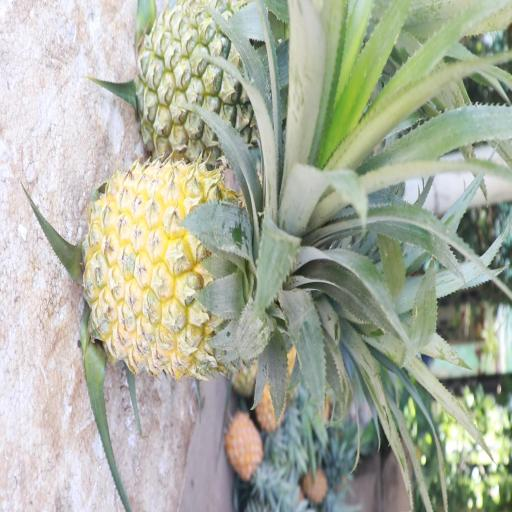------------------------------: (134, 2, 297, 163)
Pineapple - v8 v1: (87, 158, 280, 370), (226, 406, 262, 478)
